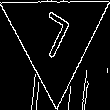L_SW: (33, 7, 78, 67)
